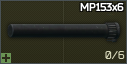MP-153 12ga 6-shell magazine extension: (0, 0, 127, 64)
